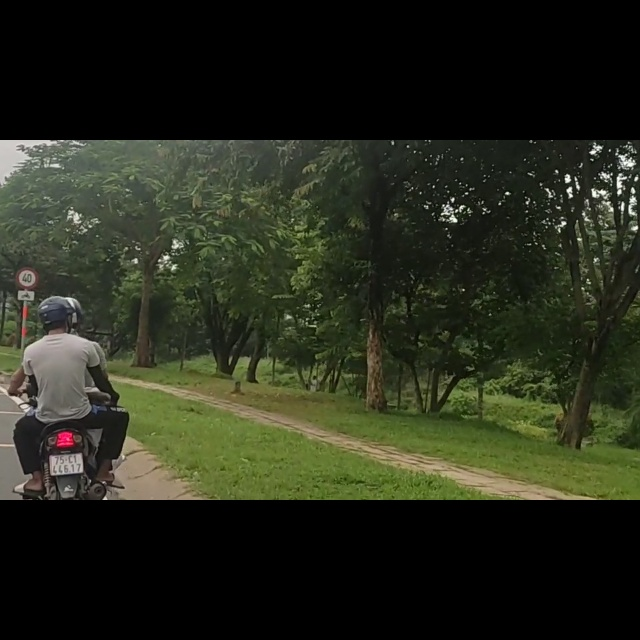Tốc độ tối đa cho phép 40km/h: (16, 267, 37, 289)
